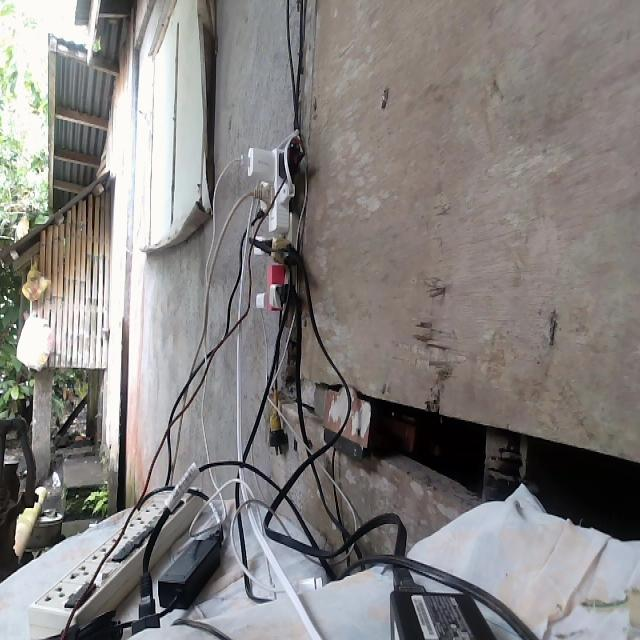-: (233, 141, 309, 312)
